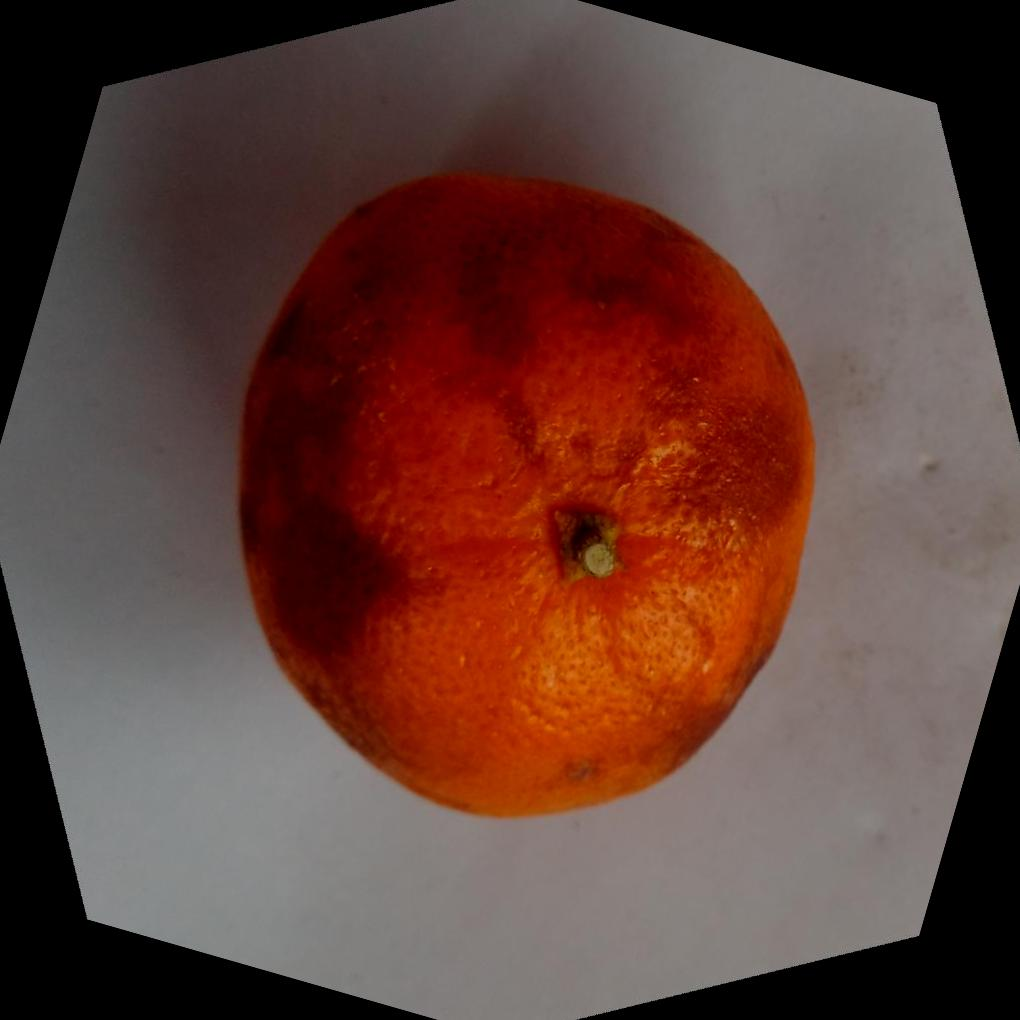FreshOrange: (234, 166, 818, 817)
